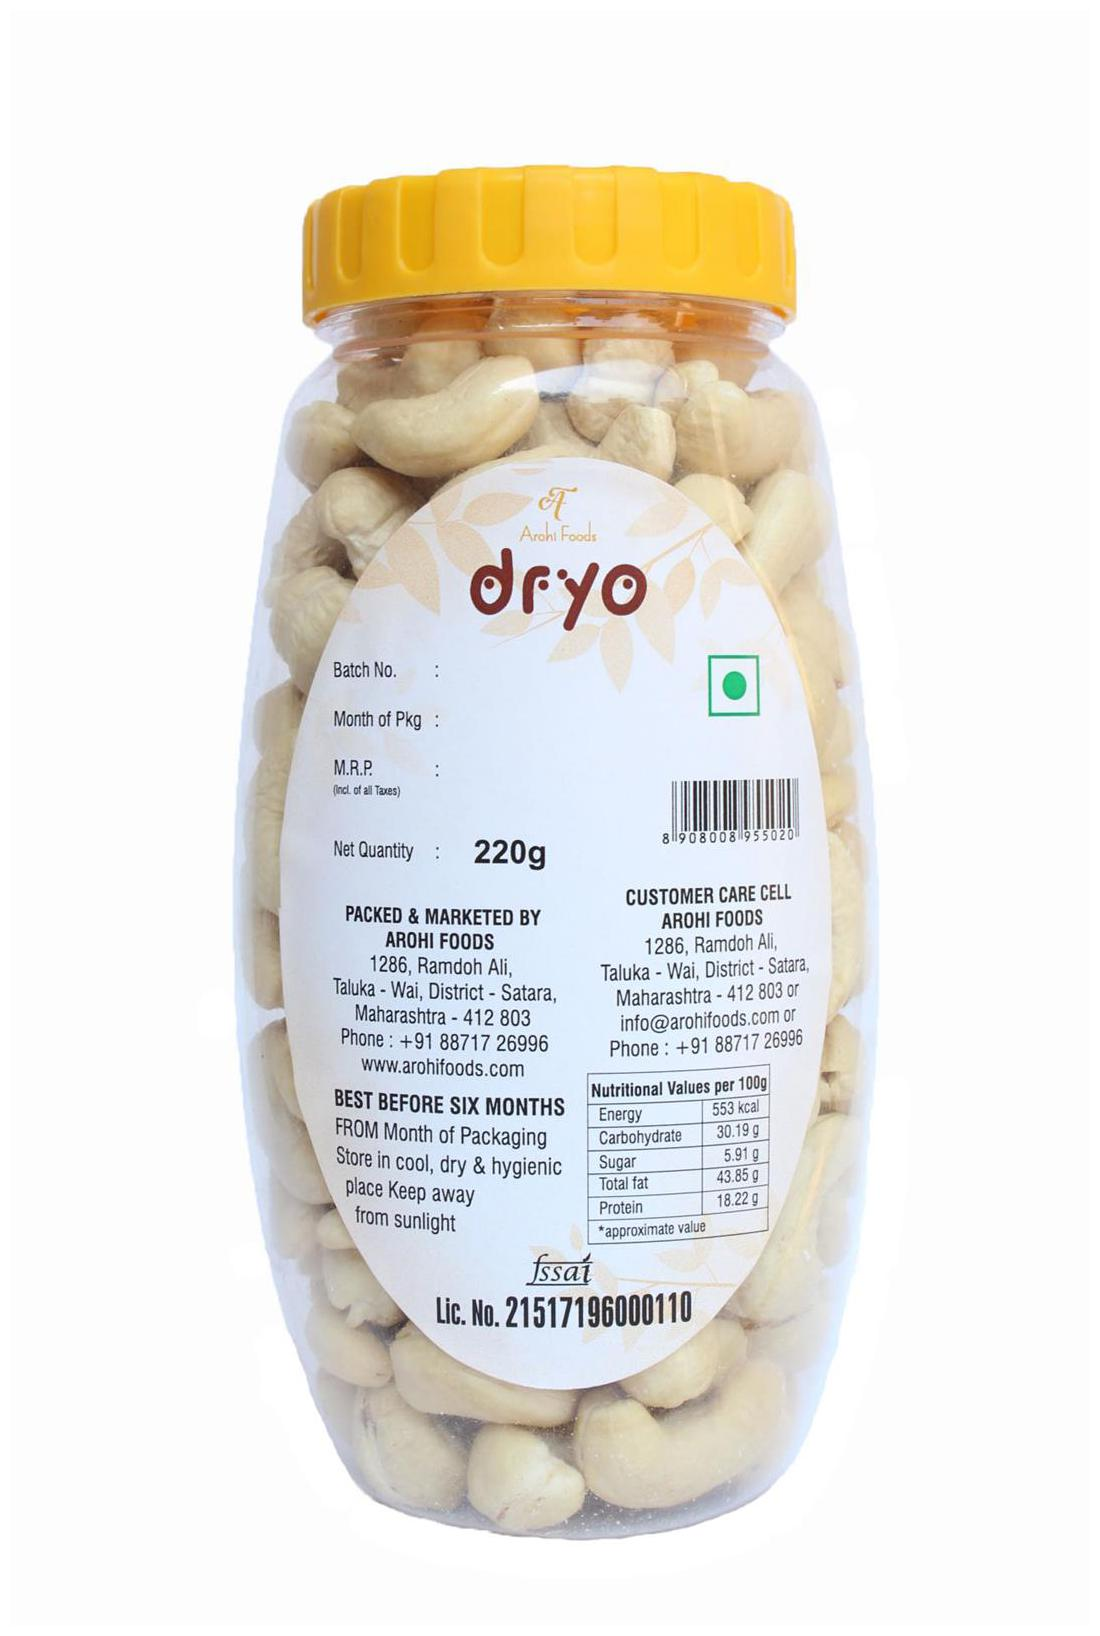fssai: (524, 1253, 594, 1285)
